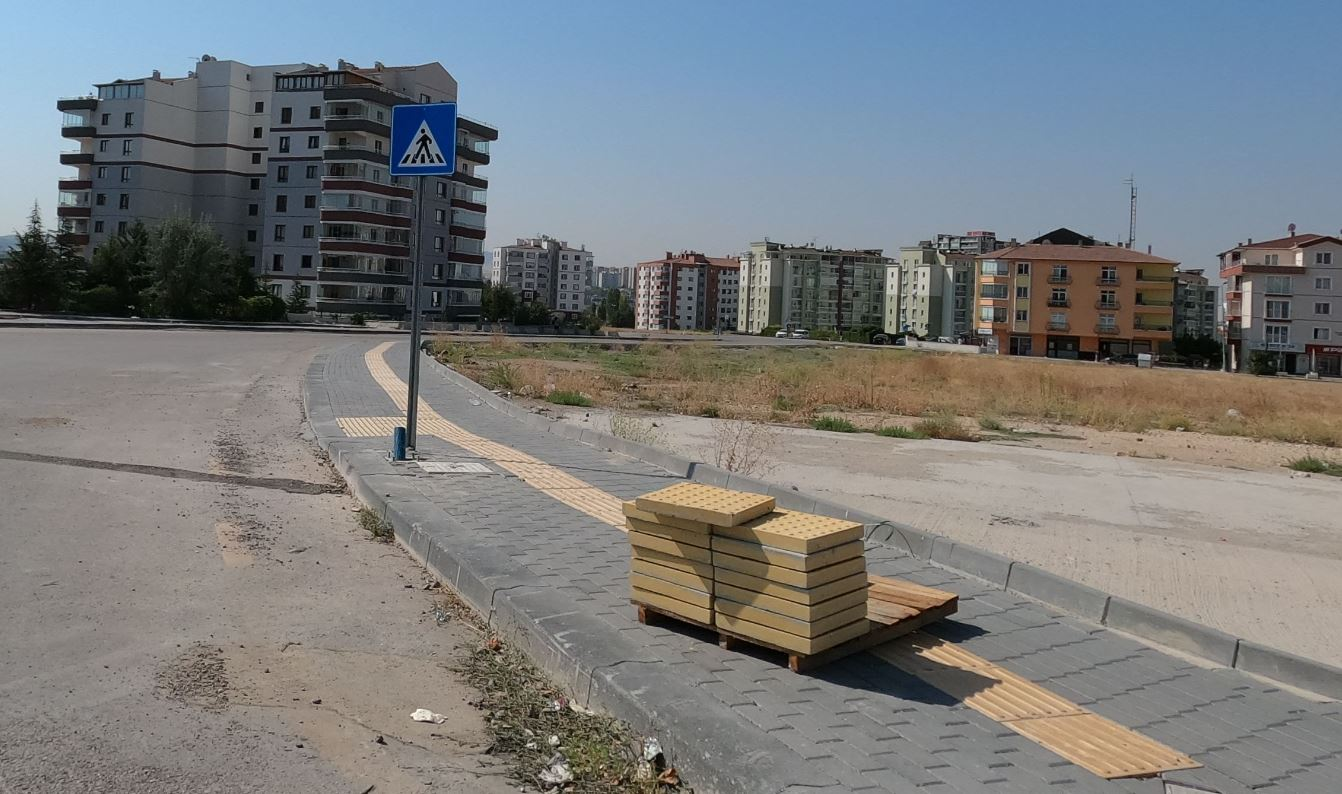Yaya Gecidi: (390, 103, 453, 175)
